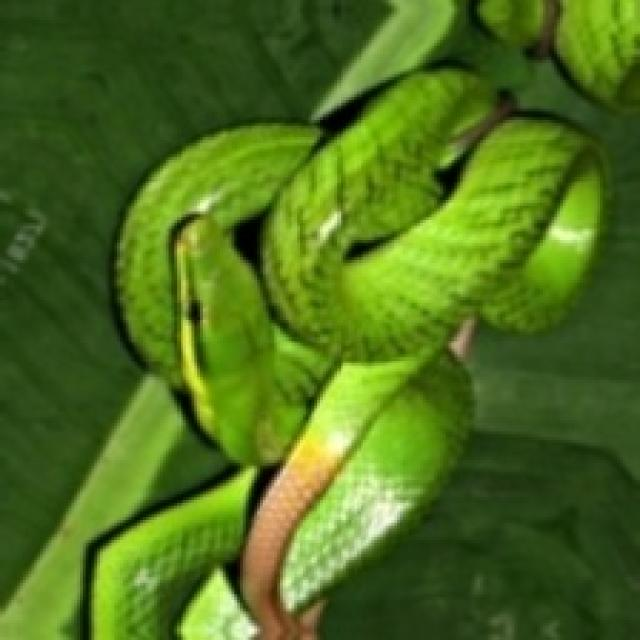red-tailed green ratsnake: (91, 69, 603, 637)
